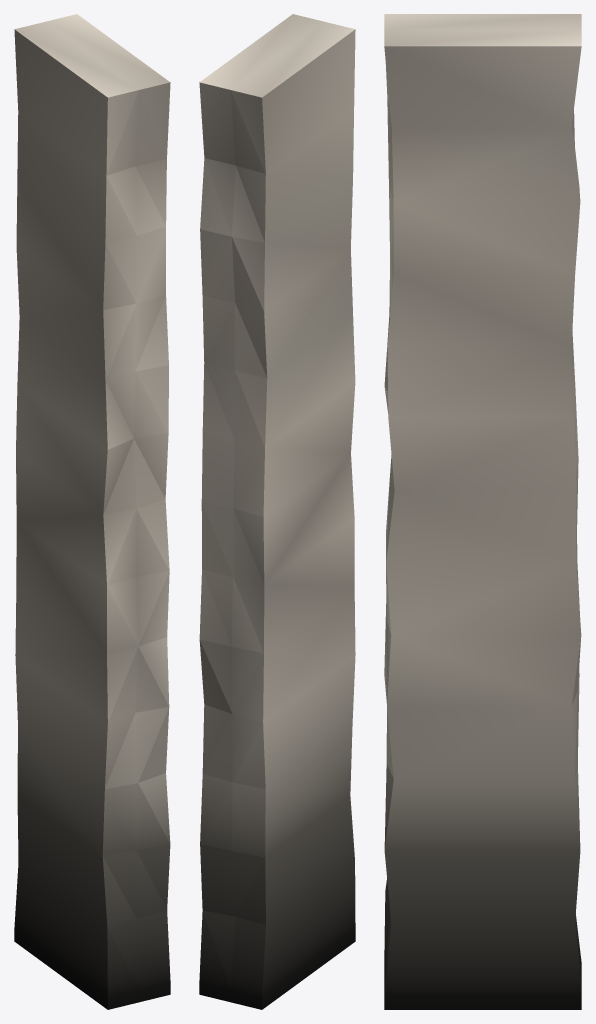
Rendered from SM_VKI_Post_Cave_Mid_Full.fbx.
3 views of the same model, side by side, from view 1: azimuth 30°, elevation 25°; view 2: azimuth 150°, elevation 25°; view 3: azimuth 270°, elevation 25° (orthographic). The views are drawn at different scales.
Visible parts, largest first — view 1: SM_VKI_Post_Cave_Mid_Full.001; view 2: SM_VKI_Post_Cave_Mid_Full.001; view 3: SM_VKI_Post_Cave_Mid_Full.001.
Part boxes in pixels (x1,y1,x2,y2): SM_VKI_Post_Cave_Mid_Full.001: [14, 14, 170, 1009]; SM_VKI_Post_Cave_Mid_Full.001: [199, 14, 355, 1009]; SM_VKI_Post_Cave_Mid_Full.001: [384, 14, 581, 1009].
Size of the model in its own units: 0.24 by 3.34 by 0.62.
